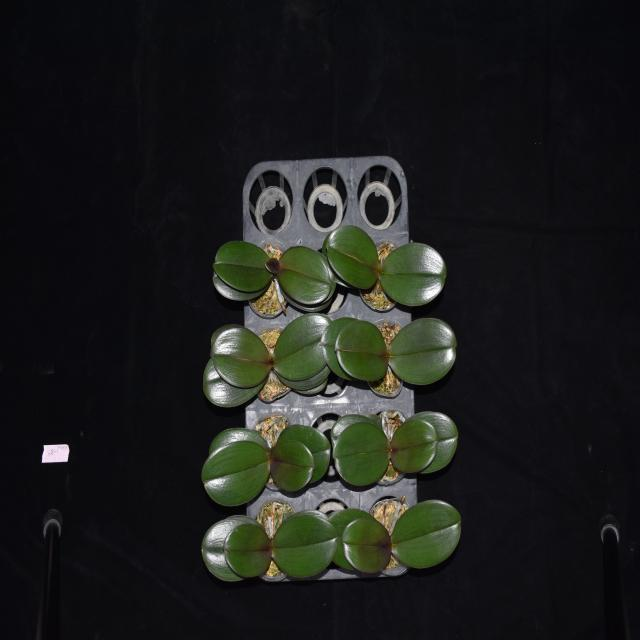leaf: (391, 499, 463, 568), (389, 316, 458, 387), (270, 310, 338, 382), (202, 440, 270, 507), (381, 240, 447, 307), (273, 512, 340, 578), (278, 240, 338, 310), (332, 412, 388, 486), (212, 329, 275, 389), (202, 512, 252, 586), (325, 222, 380, 289), (198, 355, 268, 407), (333, 321, 388, 384), (415, 411, 465, 475), (279, 423, 332, 483), (342, 515, 392, 574), (212, 243, 273, 291), (223, 522, 274, 579), (389, 412, 435, 472), (327, 508, 368, 572), (270, 438, 317, 492), (321, 317, 358, 378), (205, 425, 269, 460), (213, 270, 270, 303), (272, 365, 330, 391), (264, 255, 282, 275)
